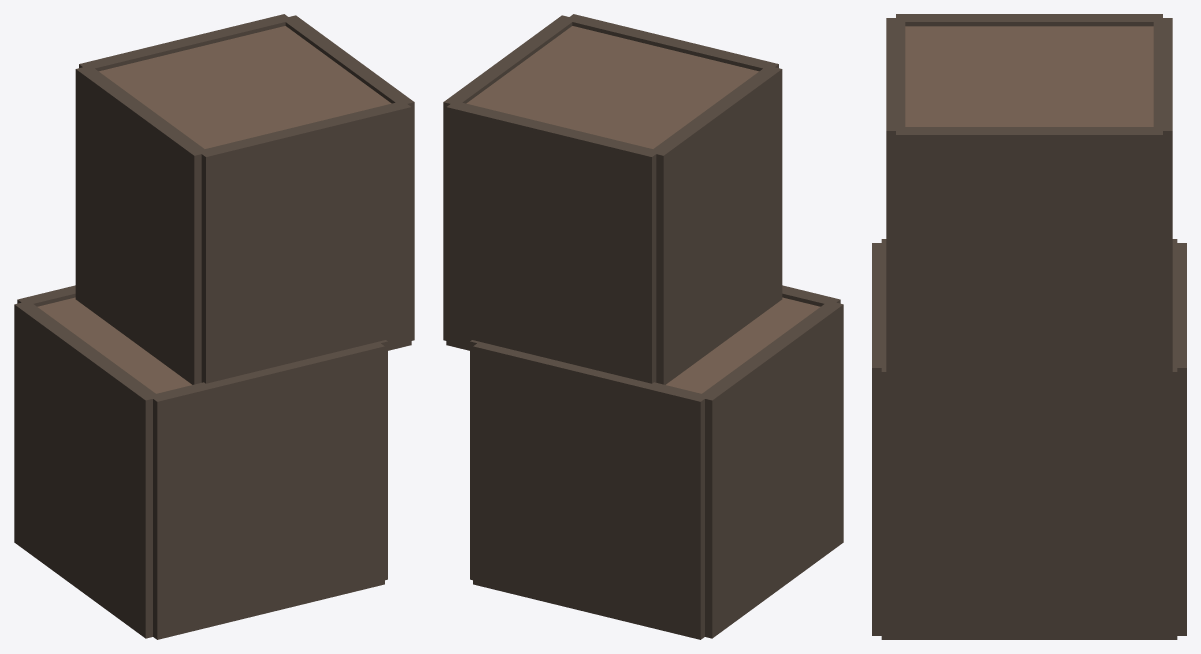
File: prop_kibako.glb
The picture shows the model from 3 angles, left to right: view 1: azimuth 30°, elevation 25°; view 2: azimuth 150°, elevation 25°; view 3: azimuth 270°, elevation 25°; orthographic projection. The views are drawn at different scales.
Parts seen in each view (by area): view 1: kibako; view 2: kibako; view 3: kibako.
Boxes of the visible parts, box(x1,y1,x2,y2) form: kibako: box(14, 14, 414, 639); kibako: box(443, 14, 843, 639); kibako: box(872, 14, 1186, 639).
Size of the model in its own units: 0.75 by 1.21 by 0.66.
